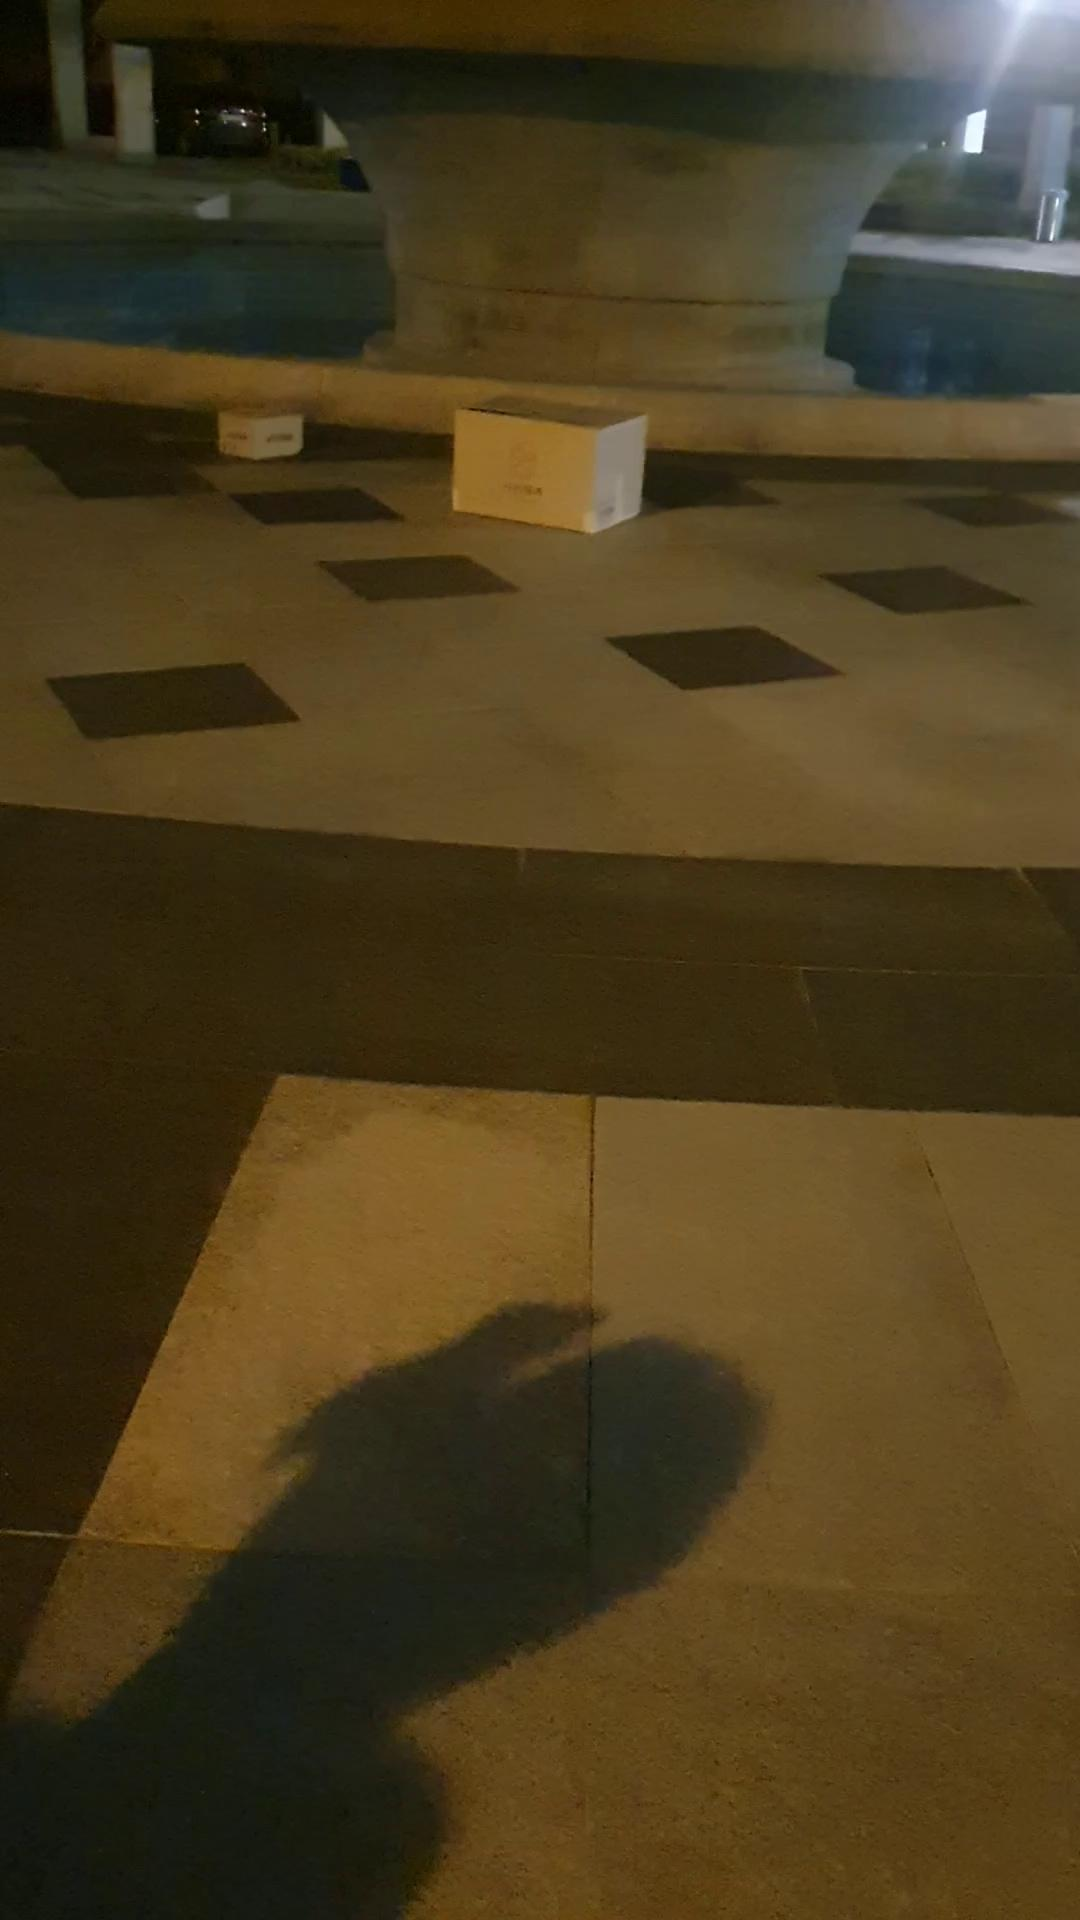Box: (398, 390, 673, 553), (193, 378, 310, 463)
